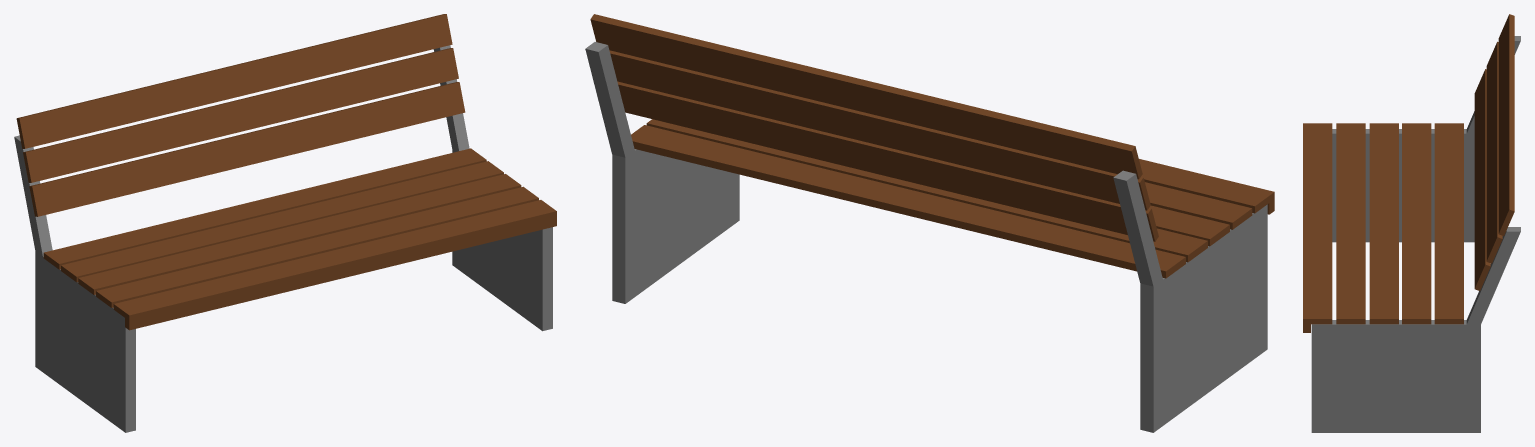
File: Bank.glb
The picture shows the model from 3 angles, left to right: view 1: azimuth 30°, elevation 25°; view 2: azimuth 150°, elevation 25°; view 3: azimuth 270°, elevation 25°; orthographic projection. The views are drawn at different scales.
Visible parts, largest first — view 1: Cube.055; view 2: Cube.055; view 3: Cube.055.
Boxes of the visible parts, x1,y1,x2,y2 form: Cube.055: (14,14,556,432); Cube.055: (585,14,1274,432); Cube.055: (1303,14,1520,432).
Bounding box in the file's own units: 2.06 × 1.09 × 0.9677.
